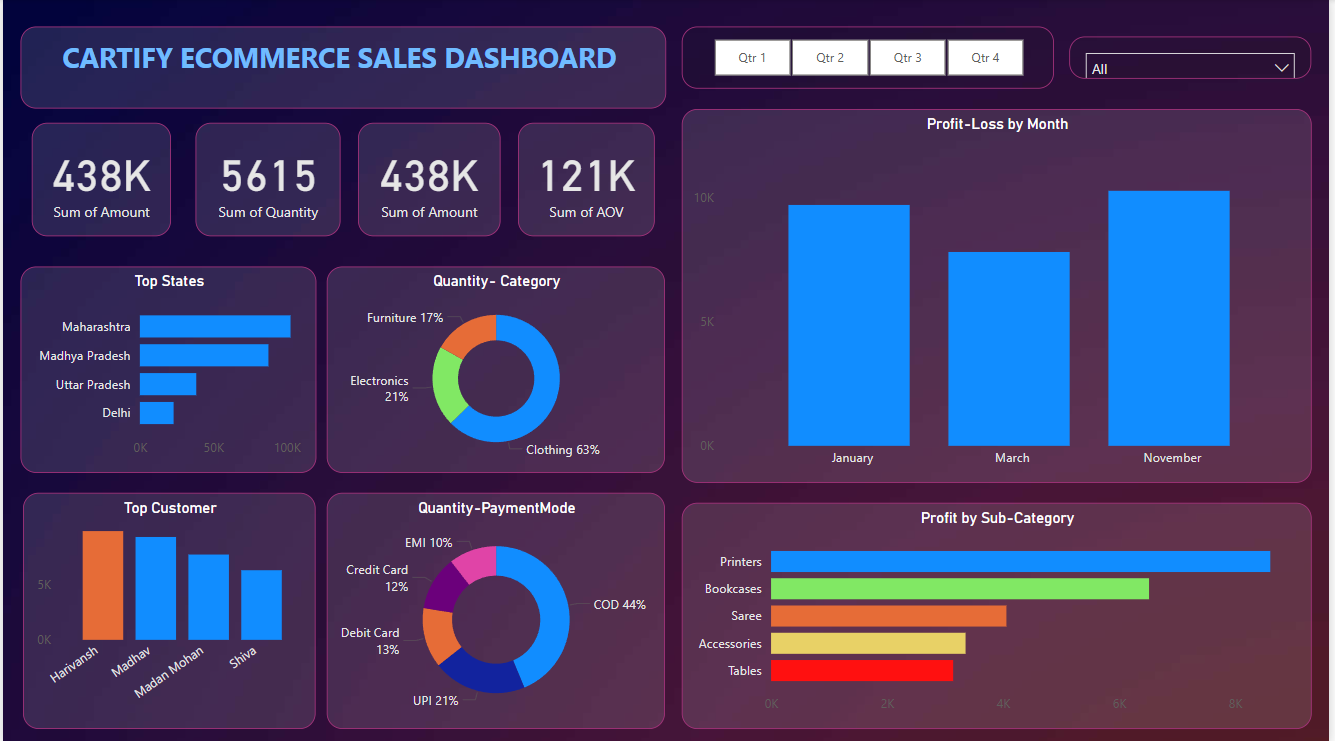

What the dashboard file says about the page in this screenshot:
{"tool":"powerbi","page":{"name":"Page 1","canvas":[1280,720],"ordinal":0},"visuals":[{"type":"columnChart","title":"Profit-Loss by Month","fields":{"Category":["Orders.Order Date.Variation.Date Hierarchy.Month"],"Y":["Details.Profit"]},"box":[654.5,105.7,607.9,360.9],"z":0},{"type":"barChart","title":"Profit by Sub-Category","fields":{"Category":["Details.Sub-Category"],"Y":["Details.Profit"]},"box":[654.5,485.8,607.9,218.2],"z":1000},{"type":"donutChart","title":"Quantity- Category","fields":{"Category":["Details.Category"],"Y":["Details.Quantity"]},"box":[312.9,258,326.6,199],"z":2000},{"type":"donutChart","title":"Quantity-PaymentMode","fields":{"Y":["Details.Quantity"],"Category":["Details.PaymentMode"]},"box":[312.9,476.2,326.6,227.8],"z":3000},{"type":"card","fields":{"Values":["Details.Amount"]},"box":[27.4,119.4,134.5,109.8],"z":4000},{"type":"card","fields":{"Values":["Details.Amount"]},"box":[343.1,119.4,137.2,109.8],"z":5000},{"type":"card","fields":{"Values":["Details.AOV"]},"box":[496.7,119.4,131.7,109.8],"z":6000},{"type":"card","fields":{"Values":["Details.Quantity"]},"box":[185.2,119.4,140,109.8],"z":7000},{"type":"columnChart","title":"Top Customer","fields":{"Category":["Orders.CustomerName"],"Y":["Details.Amount"]},"box":[19.2,476.2,282.7,227.8],"z":8000},{"type":"barChart","title":"Top States","fields":{"Category":["Orders.State"],"Y":["Details.Amount"]},"box":[16.5,258,285.4,199],"z":9000},{"type":"textbox","box":[16.5,26.1,623,79.6],"z":9001},{"type":"slicer","fields":{"Values":["Orders.Order Date.Variation.Date Hierarchy.Quarter"]},"box":[654.5,26.1,359.5,60.4],"z":9002},{"type":"slicer","fields":{"Values":["Orders.State"]},"box":[1029.2,35.7,233.3,41.2],"z":9003}]}

Visuals, with their boxes in screenshot pixels (x1, y1, x2, y2), scaled from the page's 1280x720 canvas onto the 1335x741 screenshot:
"Profit-Loss by Month" columnChart: (x1=683, y1=109, x2=1317, y2=480)
"Profit by Sub-Category" barChart: (x1=683, y1=500, x2=1317, y2=725)
"Quantity- Category" donutChart: (x1=326, y1=266, x2=667, y2=470)
"Quantity-PaymentMode" donutChart: (x1=326, y1=490, x2=667, y2=725)
card - Details.Amount: (x1=29, y1=123, x2=169, y2=236)
card - Details.Amount: (x1=358, y1=123, x2=501, y2=236)
card - Details.AOV: (x1=518, y1=123, x2=655, y2=236)
card - Details.Quantity: (x1=193, y1=123, x2=339, y2=236)
"Top Customer" columnChart: (x1=20, y1=490, x2=315, y2=725)
"Top States" barChart: (x1=17, y1=266, x2=315, y2=470)
textbox: (x1=17, y1=27, x2=667, y2=109)
slicer - Orders.Order Date.Variation.Date Hierarchy.Quarter: (x1=683, y1=27, x2=1058, y2=89)
slicer - Orders.State: (x1=1073, y1=37, x2=1317, y2=79)
